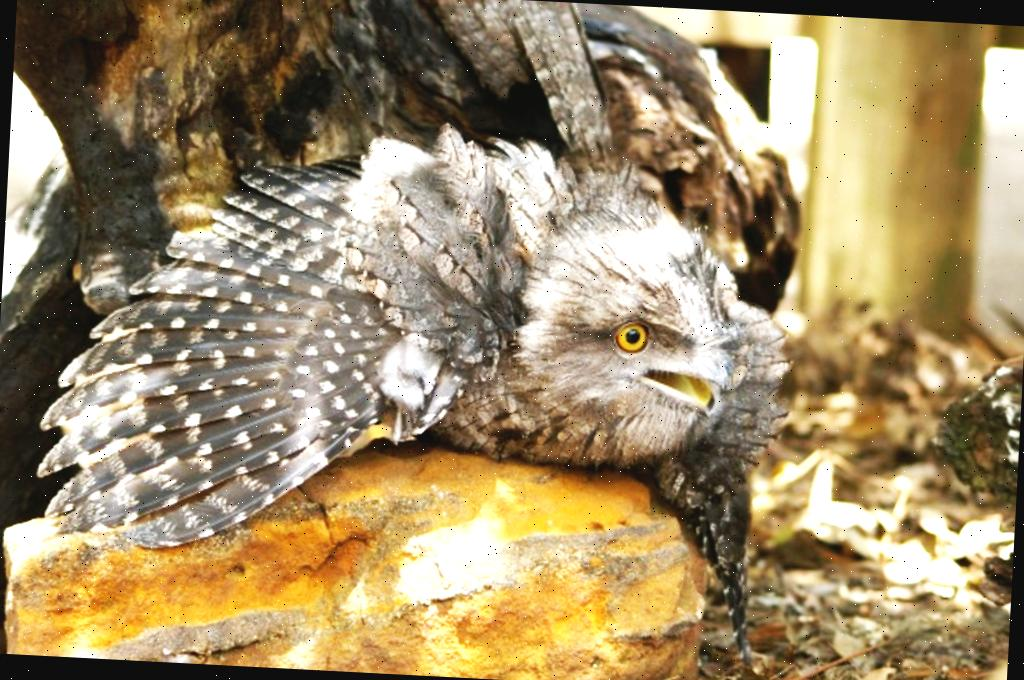Owl: (28, 100, 814, 675)
